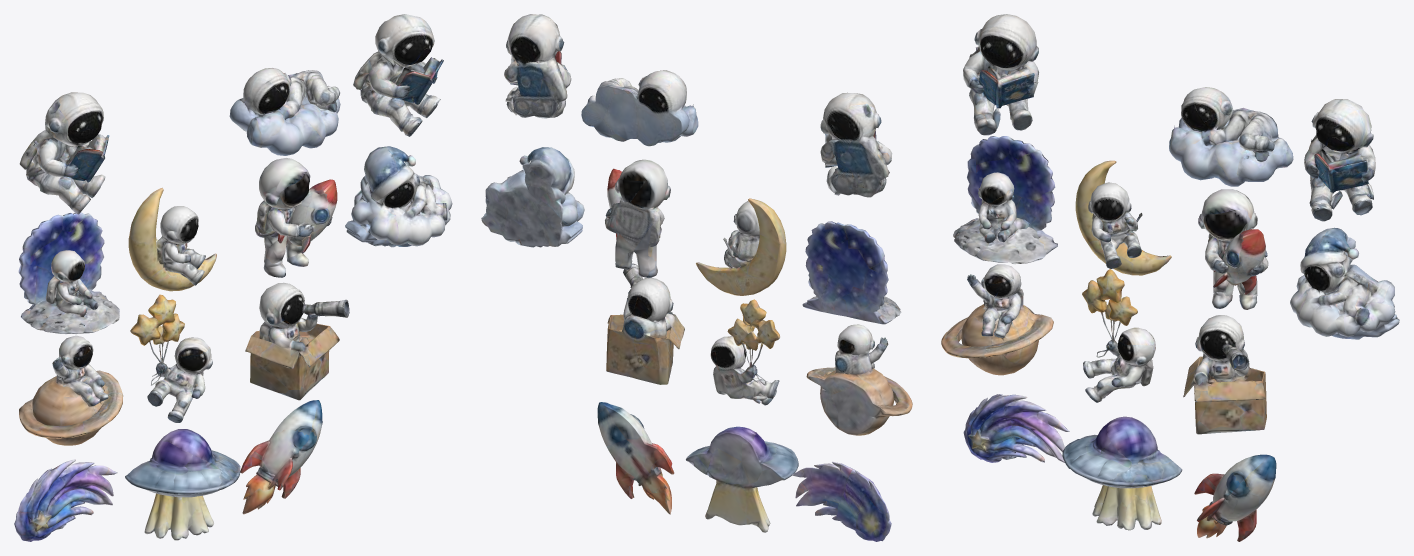
3 views of the same model, side by side, from view 1: azimuth 30°, elevation 25°; view 2: azimuth 150°, elevation 25°; view 3: azimuth 330°, elevation 25° (orthographic). The views are drawn at different scales.
Visible parts, largest first — view 1: Mesh 3, Mesh 15, Mesh 18, Mesh 6, Mesh 14, Mesh 5, Mesh 19, Mesh 1, Mesh 17, Mesh 11, Mesh 2, Mesh 8 (+1 smaller); view 2: Mesh 18, Mesh 3, Mesh 6, Mesh 1, Mesh 14, Mesh 15, Mesh 5, Mesh 17, Mesh 19, Mesh 11, Mesh 2, Mesh 16 (+1 smaller); view 3: Mesh 3, Mesh 14, Mesh 18, Mesh 6, Mesh 15, Mesh 1, Mesh 5, Mesh 19, Mesh 17, Mesh 11, Mesh 2, Mesh 8 (+1 smaller).
Part boxes in pixels (box(x1,y1,x2,y2)): Mesh 3: box(18, 212, 119, 334); Mesh 15: box(245, 282, 349, 400); Mesh 18: box(345, 146, 452, 247); Mesh 6: box(125, 429, 240, 540); Mesh 14: box(229, 68, 340, 155); Mesh 5: box(19, 92, 109, 214); Mesh 19: box(353, 14, 443, 136); Mesh 1: box(19, 335, 123, 445); Mesh 17: box(255, 158, 337, 277); Mesh 11: box(128, 188, 216, 291); Mesh 2: box(14, 459, 117, 541); Mesh 8: box(130, 294, 212, 422); Mesh 18: box(481, 147, 584, 247); Mesh 3: box(802, 221, 901, 324); Mesh 6: box(686, 426, 798, 532); Mesh 1: box(806, 324, 912, 435); Mesh 14: box(581, 70, 698, 146); Mesh 15: box(606, 263, 684, 384); Mesh 5: box(820, 92, 892, 197); Mesh 17: box(605, 159, 670, 278); Mesh 19: box(504, 14, 571, 118); Mesh 11: box(696, 198, 786, 295); Mesh 2: box(792, 461, 891, 541); Mesh 16: box(597, 402, 674, 514); Mesh 3: box(953, 136, 1057, 264); Mesh 14: box(1169, 87, 1293, 186); Mesh 18: box(1290, 227, 1399, 339); Mesh 6: box(1062, 416, 1182, 530); Mesh 15: box(1183, 315, 1266, 434); Mesh 1: box(941, 264, 1053, 375); Mesh 5: box(963, 14, 1038, 135); Mesh 19: box(1304, 99, 1375, 221); Mesh 17: box(1198, 189, 1268, 309); Mesh 11: box(1075, 160, 1171, 275); Mesh 2: box(963, 394, 1069, 462); Mesh 8: box(1082, 269, 1155, 402).
Bounding box in the file's own units: 1.81 × 1.89 × 0.2931.
13 materials, 13 textured.
